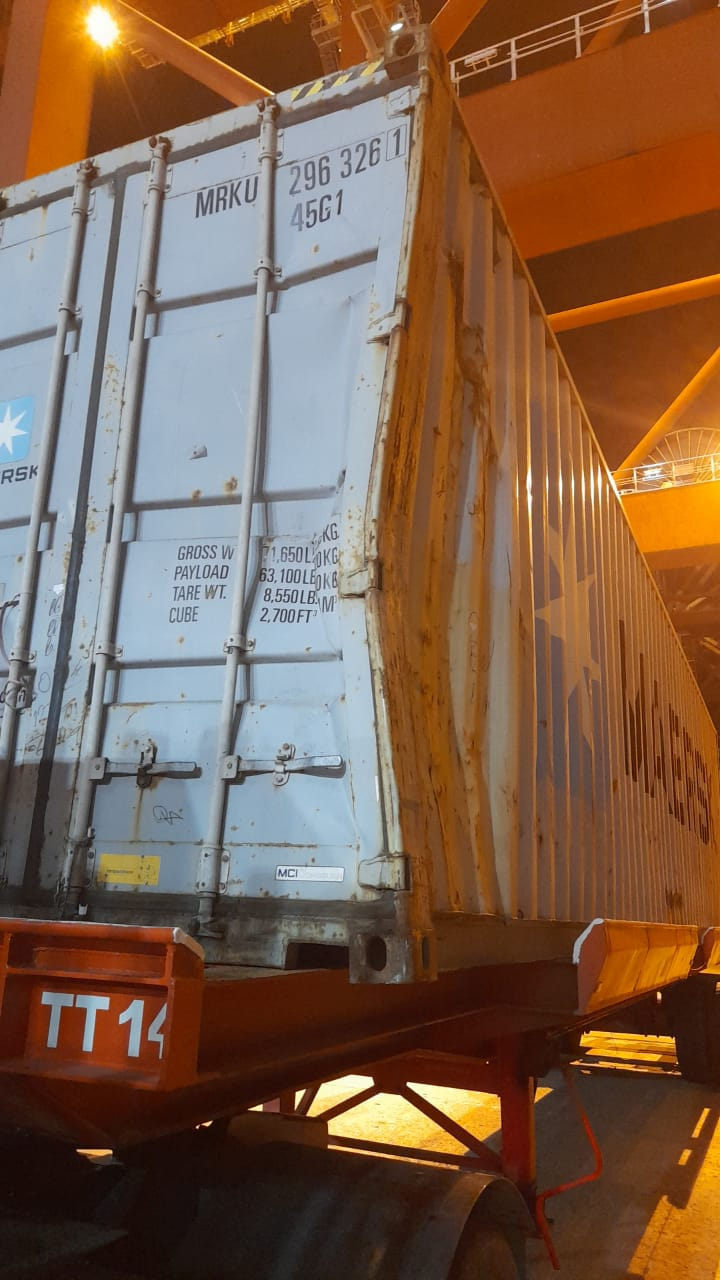moderate: (397, 377, 547, 826)
